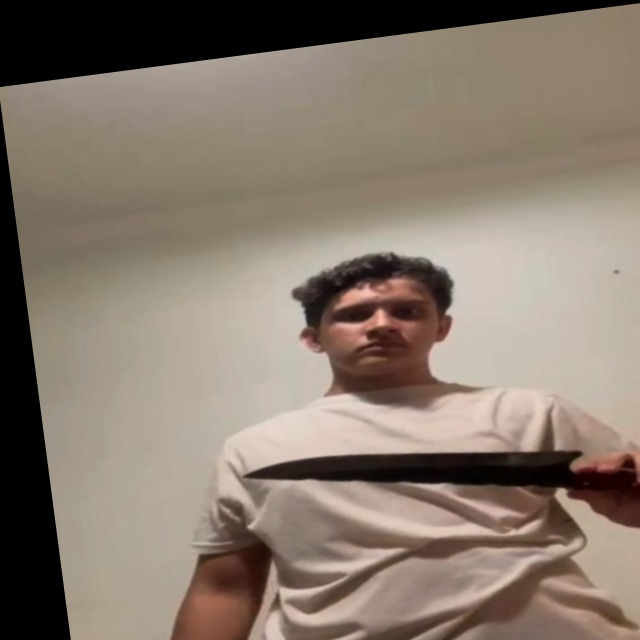Sharp-Object: (242, 421, 586, 530)
